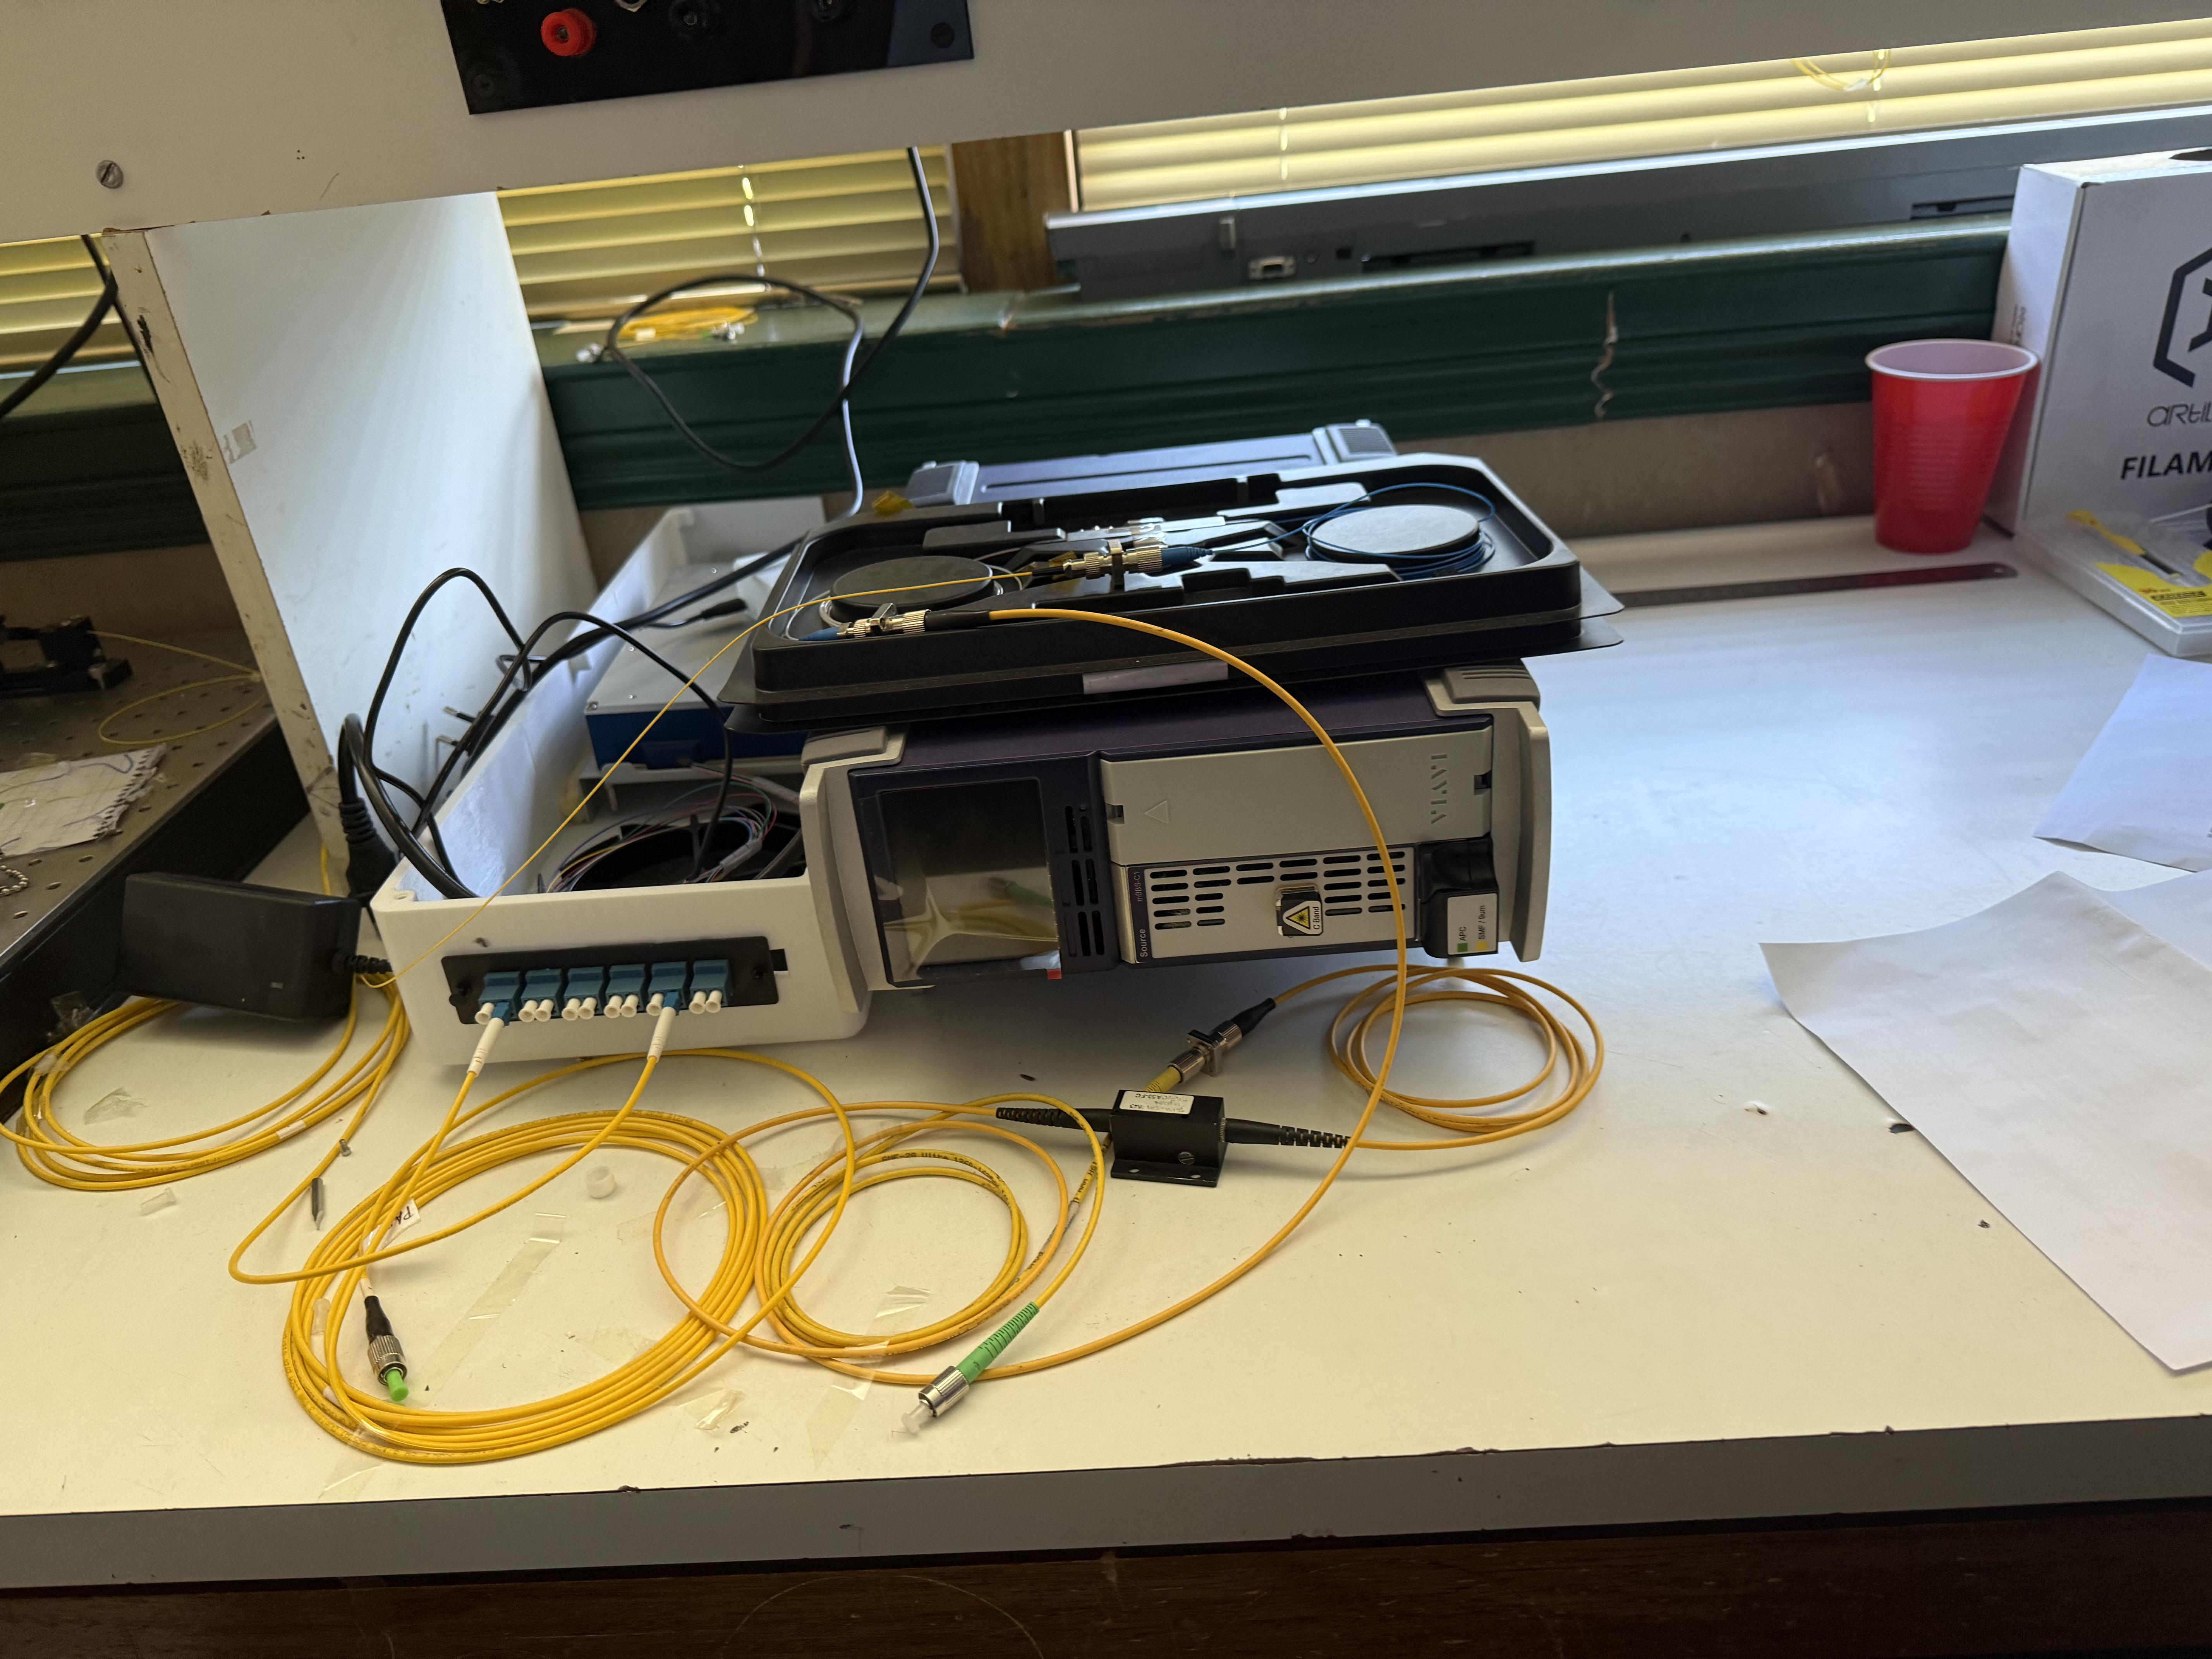fiber_cable: (0, 934, 1642, 1481)
laser: (792, 396, 1561, 1012)
